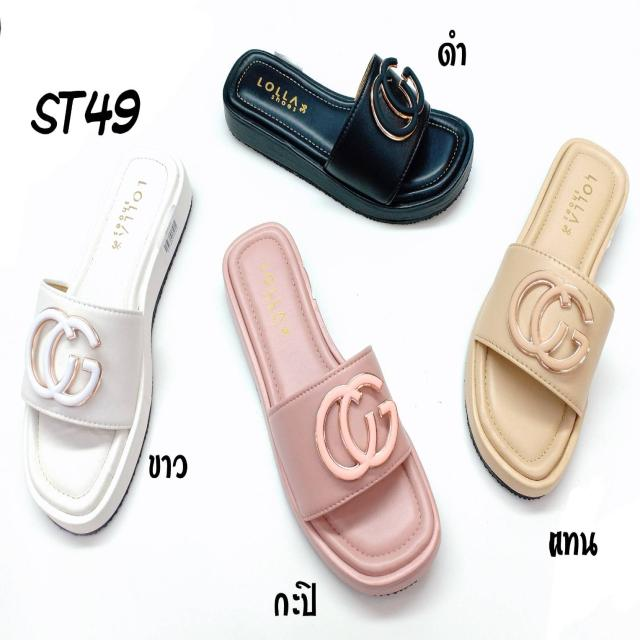black: (218, 48, 468, 220)
kapi: (226, 228, 432, 592)
tan: (463, 136, 633, 503)
white: (26, 148, 188, 532)
